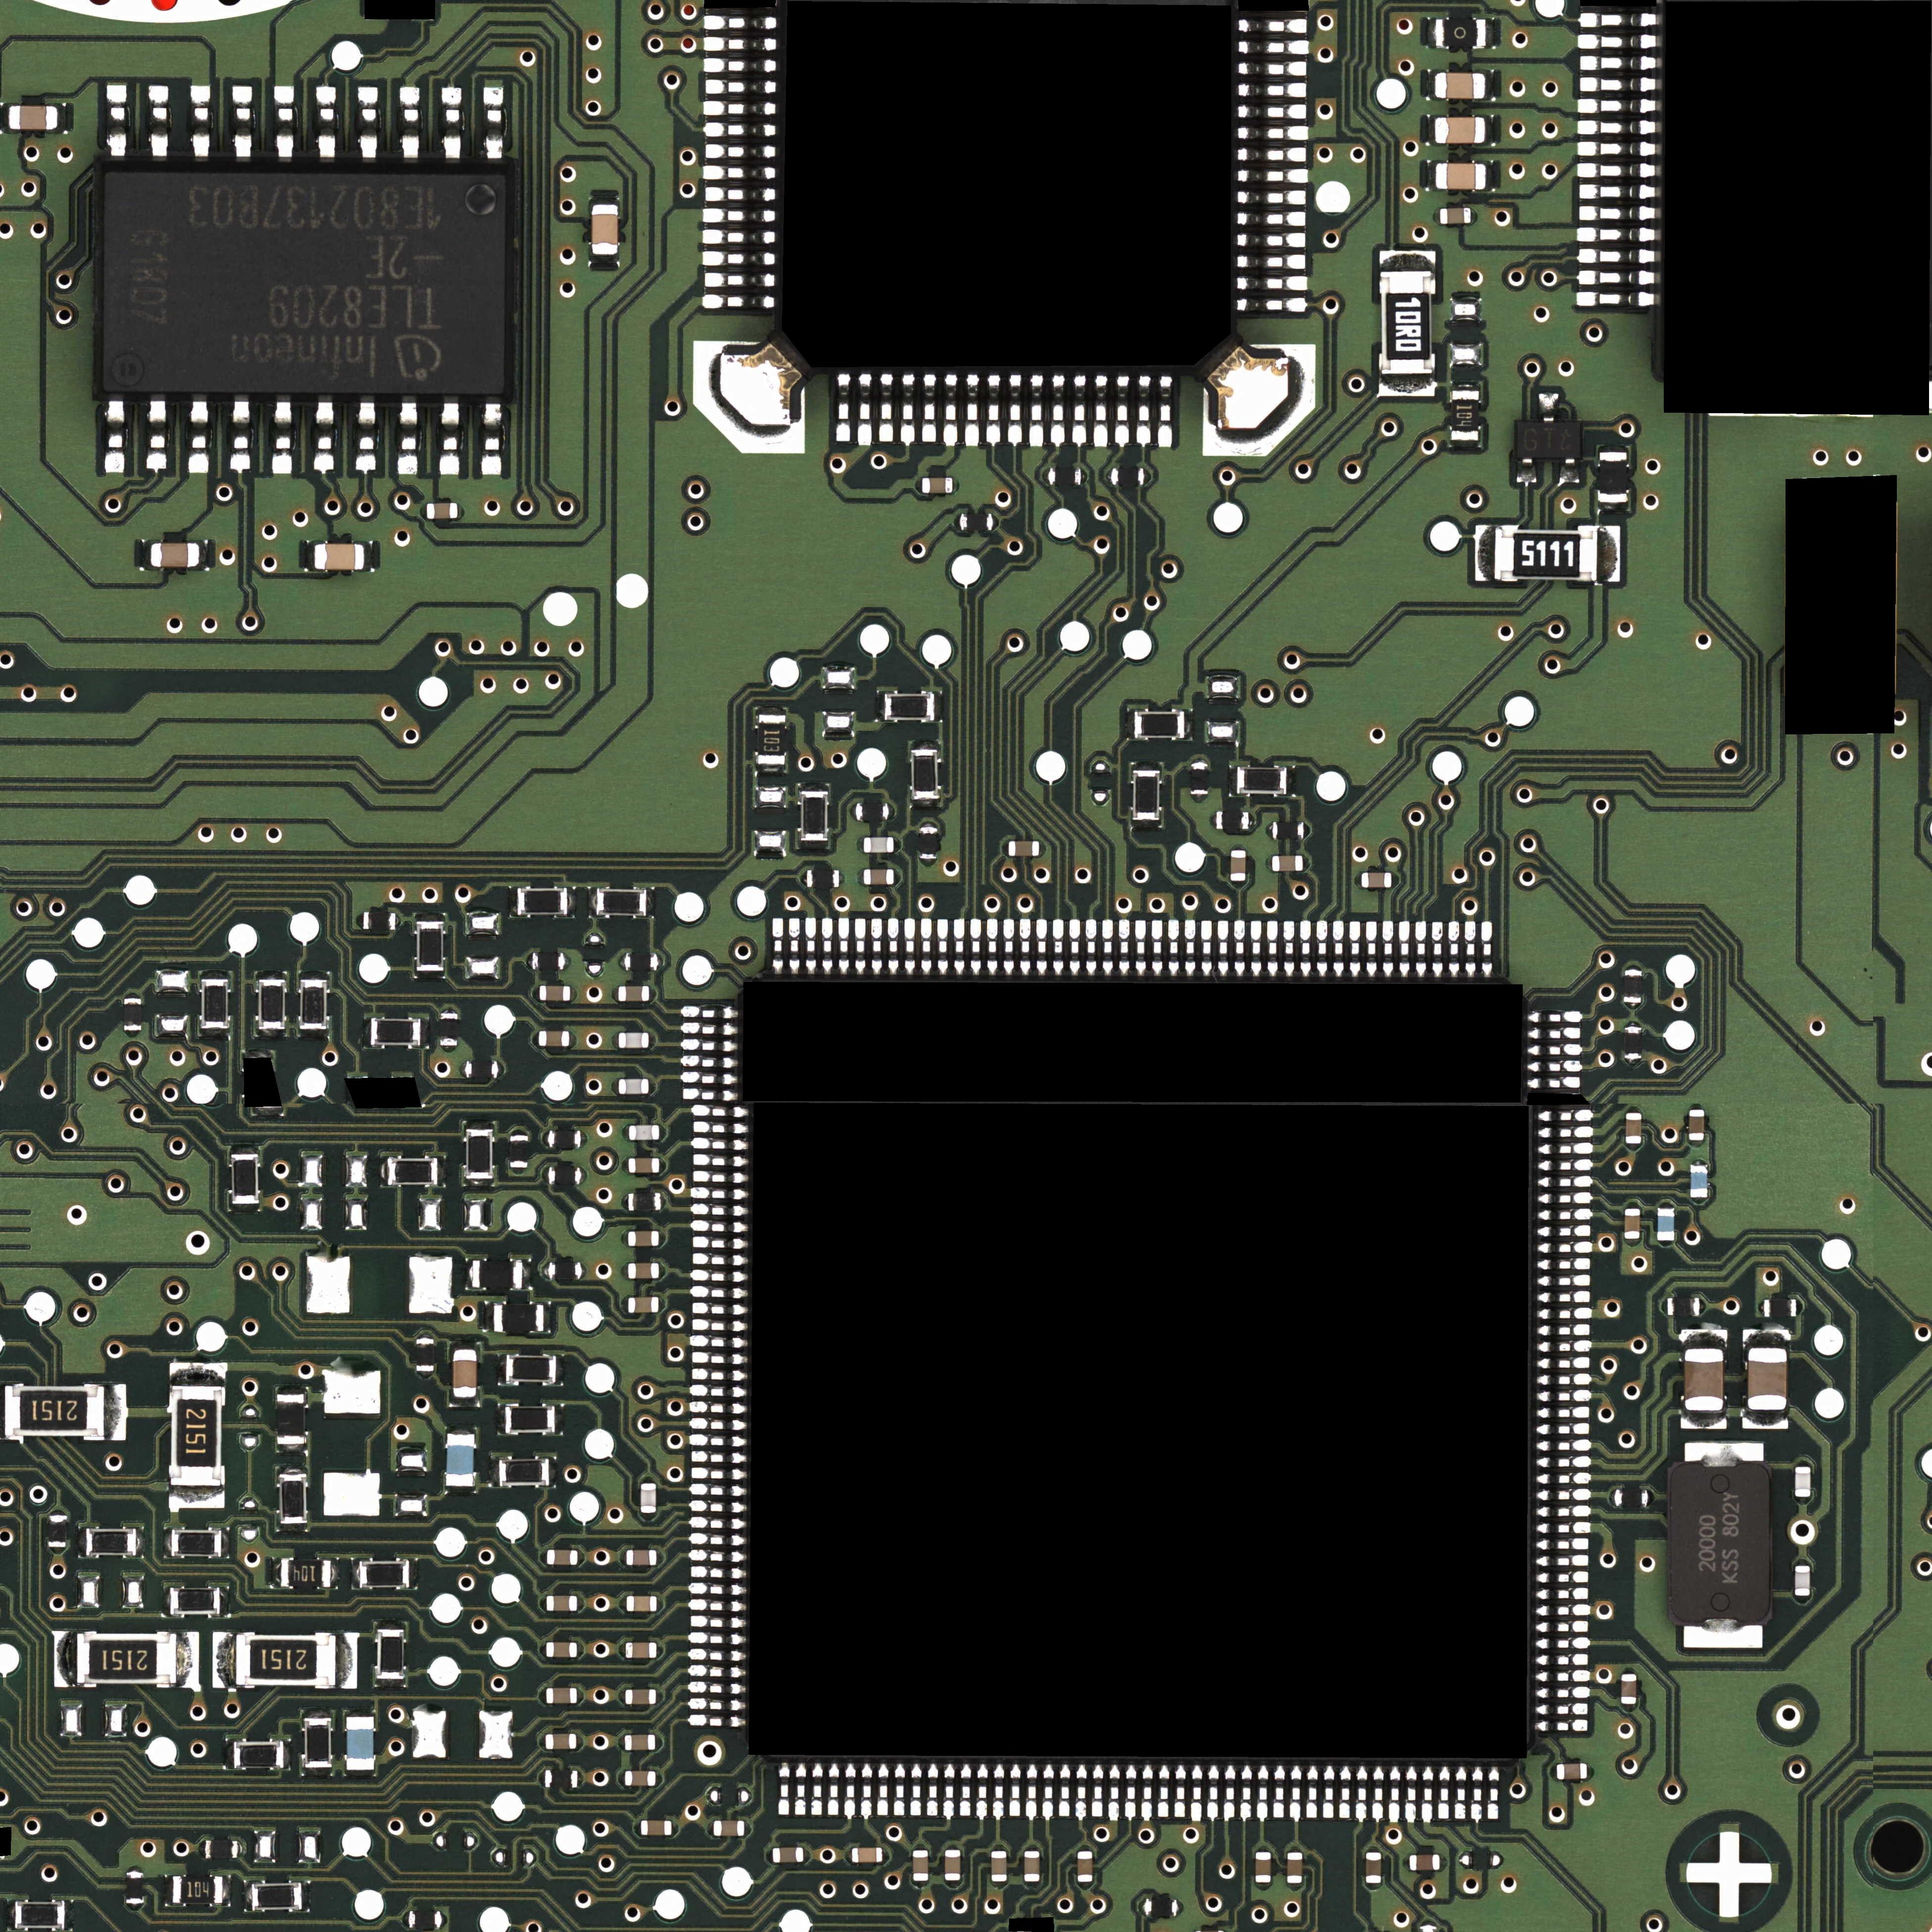Package: (106, 172, 506, 398), (1668, 1463, 1771, 1624), (1495, 527, 1598, 580), (1380, 272, 1433, 373), (5, 1385, 103, 1440), (172, 1387, 223, 1484), (78, 1633, 175, 1684), (237, 1635, 334, 1686), (1516, 421, 1582, 458), (1684, 1348, 1723, 1410), (1748, 1348, 1787, 1410), (1598, 451, 1628, 502), (446, 1433, 474, 1486), (280, 1559, 331, 1587), (172, 1875, 223, 1904), (1435, 19, 1486, 48), (347, 1716, 373, 1769), (757, 715, 786, 764), (494, 1304, 543, 1332), (276, 1394, 304, 1444), (472, 1260, 522, 1288), (1435, 117, 1486, 143), (1451, 391, 1479, 439), (517, 888, 566, 915), (315, 543, 364, 570), (885, 694, 934, 720), (359, 1560, 409, 1587), (465, 1129, 492, 1178), (258, 978, 285, 1028), (202, 978, 228, 1028), (280, 1474, 306, 1523), (499, 1460, 548, 1486), (506, 1407, 556, 1433), (304, 1718, 331, 1767), (506, 1355, 556, 1382), (232, 1154, 258, 1203), (1134, 711, 1184, 738), (1437, 163, 1486, 189), (1435, 73, 1484, 99), (593, 203, 617, 255), (418, 922, 444, 970), (911, 750, 938, 798), (150, 543, 200, 568), (596, 890, 646, 915), (801, 791, 826, 840), (234, 1743, 283, 1767), (170, 1589, 219, 1614), (172, 1530, 221, 1555), (379, 1629, 403, 1679), (372, 1019, 421, 1044), (87, 1529, 136, 1553), (387, 1159, 437, 1184), (1237, 768, 1286, 793), (1134, 770, 1159, 819), (301, 980, 326, 1028), (253, 1884, 301, 1909), (16, 1902, 64, 1927), (9, 106, 57, 129), (453, 1350, 476, 1398), (510, 1134, 529, 1168), (416, 1338, 435, 1371), (1622, 970, 1642, 1003), (1667, 1297, 1700, 1316), (918, 826, 938, 858), (807, 869, 839, 888), (959, 513, 993, 531), (625, 954, 658, 971), (1111, 467, 1145, 485), (1690, 1164, 1707, 1198), (1615, 1490, 1649, 1507), (1217, 810, 1247, 830), (363, 911, 395, 929), (533, 952, 564, 970), (856, 803, 888, 821), (48, 1514, 65, 1546), (548, 1261, 580, 1279), (628, 1192, 660, 1210), (548, 1166, 580, 1184), (409, 1911, 441, 1928), (545, 1769, 577, 1787), (548, 1131, 580, 1148), (124, 998, 142, 1030), (126, 1872, 143, 1904), (441, 1014, 458, 1046), (205, 1840, 237, 1858), (1191, 763, 1208, 794), (1049, 467, 1081, 485), (1272, 821, 1304, 839), (1624, 1026, 1642, 1058), (1145, 1898, 1177, 1916), (1764, 1299, 1796, 1316), (1440, 207, 1470, 225), (1272, 855, 1302, 872), (922, 478, 954, 494), (426, 502, 458, 518), (851, 1847, 883, 1863), (628, 1157, 660, 1173), (625, 1690, 656, 1706), (617, 985, 649, 1001), (625, 1642, 656, 1658), (545, 1734, 577, 1750), (547, 1550, 579, 1566), (713, 1821, 745, 1836), (465, 1062, 497, 1077), (1658, 1208, 1674, 1240), (1077, 1851, 1093, 1882), (540, 985, 570, 1001), (863, 869, 893, 885), (863, 837, 893, 853), (773, 1847, 803, 1863), (628, 1263, 658, 1279), (913, 1851, 929, 1881), (625, 1771, 655, 1787), (628, 1297, 658, 1313), (640, 1483, 656, 1513), (630, 1125, 660, 1141), (619, 1031, 649, 1047), (626, 1596, 656, 1612), (626, 1550, 656, 1566), (547, 1596, 577, 1612), (547, 1642, 577, 1658), (547, 1688, 577, 1704), (625, 1734, 655, 1750), (1230, 851, 1246, 881), (1008, 840, 1039, 856), (1362, 872, 1392, 888), (945, 1851, 961, 1881), (1557, 1764, 1587, 1780), (1794, 1566, 1810, 1596), (1626, 1113, 1642, 1143), (1024, 1851, 1040, 1881), (1621, 1674, 1637, 1704), (991, 1851, 1007, 1881), (1624, 1208, 1640, 1238), (1794, 1467, 1810, 1497), (1366, 1852, 1382, 1882), (1286, 1852, 1302, 1882), (1688, 1109, 1704, 1139), (1410, 1854, 1440, 1870), (538, 1031, 570, 1046), (628, 1231, 658, 1246), (619, 1079, 649, 1093), (640, 1821, 671, 1835), (1256, 1852, 1270, 1882)
Solder: (694, 340, 805, 453), (1205, 347, 1318, 455), (1684, 1624, 1762, 1647), (357, 85, 379, 161), (439, 400, 460, 476), (315, 85, 336, 161), (441, 85, 462, 161), (274, 85, 295, 161), (481, 400, 502, 476), (232, 85, 253, 159), (104, 400, 126, 474), (106, 83, 127, 157), (398, 85, 419, 159), (483, 85, 504, 159), (1684, 1442, 1764, 1461), (356, 400, 377, 472), (189, 400, 209, 474), (191, 85, 211, 159), (149, 85, 168, 159), (398, 400, 418, 474), (230, 400, 249, 472), (272, 402, 292, 474), (315, 402, 334, 472), (147, 400, 166, 471), (212, 1631, 235, 1690), (170, 1362, 226, 1385), (168, 1486, 225, 1509), (53, 1631, 76, 1688), (1578, 226, 1658, 242), (177, 1631, 198, 1690), (106, 1382, 127, 1440), (336, 1633, 357, 1690), (1378, 375, 1435, 396), (1378, 251, 1437, 271), (1576, 292, 1656, 306), (1599, 525, 1619, 582), (1580, 12, 1658, 27), (1580, 78, 1658, 92), (1578, 99, 1656, 113), (1578, 120, 1656, 134), (1578, 142, 1656, 156), (1578, 163, 1656, 177), (1580, 205, 1658, 219), (1578, 249, 1656, 264), (1578, 271, 1656, 285), (1238, 18, 1307, 34), (1237, 147, 1306, 163), (1237, 104, 1306, 120), (1580, 34, 1656, 48), (1582, 55, 1658, 69), (1580, 163, 1656, 177), (1580, 186, 1656, 200), (943, 373, 957, 446), (858, 372, 872, 444), (704, 16, 777, 30), (704, 35, 777, 50), (704, 58, 777, 73), (704, 80, 777, 94), (704, 166, 777, 180), (704, 101, 777, 115), (702, 122, 775, 136), (704, 145, 777, 159), (702, 209, 775, 223), (702, 230, 775, 244), (702, 251, 775, 265), (702, 272, 775, 287), (702, 295, 775, 310), (1476, 524, 1493, 580), (1237, 276, 1307, 290), (1237, 297, 1307, 311), (1136, 377, 1150, 448), (1115, 375, 1129, 446), (1093, 375, 1108, 446), (1072, 375, 1086, 446), (1051, 375, 1065, 446), (1030, 375, 1044, 446), (1008, 375, 1023, 446), (966, 375, 980, 446), (987, 375, 1001, 446), (1238, 41, 1307, 55), (1238, 62, 1307, 76), (1238, 83, 1307, 97), (1238, 126, 1307, 140), (1238, 170, 1307, 184), (1238, 234, 1307, 248), (1237, 212, 1306, 226), (1237, 255, 1306, 269), (879, 373, 893, 442), (922, 373, 936, 442), (837, 373, 851, 441), (901, 373, 913, 446), (704, 188, 777, 200), (1681, 1410, 1727, 1430), (1743, 1410, 1789, 1430), (1237, 191, 1306, 203), (1159, 377, 1171, 446), (1743, 1329, 1790, 1346), (1681, 1330, 1727, 1348), (692, 1368, 747, 1382), (690, 1582, 745, 1596), (690, 1336, 748, 1348), (688, 1649, 747, 1661), (688, 1631, 747, 1644), (688, 1615, 747, 1628), (1207, 1764, 1219, 1822), (993, 1762, 1005, 1821), (943, 1762, 955, 1821), (681, 1007, 738, 1019), (681, 1039, 738, 1051), (692, 1122, 748, 1134), (694, 1154, 750, 1166), (692, 1187, 748, 1200), (692, 1253, 748, 1265), (692, 1270, 748, 1283), (692, 1237, 748, 1249), (692, 1318, 748, 1330), (692, 1352, 748, 1364), (690, 1401, 747, 1414), (690, 1451, 747, 1463), (690, 1417, 747, 1430), (690, 1566, 747, 1578), (688, 1550, 745, 1562), (690, 1532, 747, 1545), (690, 1516, 747, 1529), (690, 1500, 747, 1513), (688, 1665, 745, 1677), (688, 1714, 745, 1727), (1431, 922, 1444, 978), (1355, 1766, 1368, 1822), (1141, 1764, 1154, 1821), (1042, 1764, 1054, 1821), (683, 1023, 738, 1035), (683, 1072, 738, 1085), (683, 1088, 738, 1100), (694, 1138, 748, 1150), (692, 1302, 747, 1315), (692, 1467, 747, 1479), (690, 1599, 745, 1612), (690, 1683, 745, 1695), (690, 1698, 745, 1711), (1537, 1109, 1592, 1122), (1539, 1159, 1594, 1171), (1536, 1571, 1591, 1583), (1537, 1274, 1591, 1286), (1537, 1323, 1591, 1336), (1536, 1670, 1589, 1683), (1537, 1422, 1589, 1435), (1290, 1764, 1300, 1822), (1258, 1764, 1269, 1822), (1240, 1764, 1251, 1822), (1224, 1764, 1235, 1822), (1191, 1764, 1201, 1822), (1076, 1762, 1086, 1821), (1026, 1762, 1037, 1821), (977, 1762, 987, 1821), (773, 918, 784, 975), (692, 1106, 748, 1116), (692, 1171, 748, 1182), (692, 1205, 748, 1215), (692, 1221, 748, 1231), (692, 1286, 748, 1297), (690, 1385, 747, 1396), (690, 1435, 747, 1445), (690, 1484, 747, 1495), (789, 918, 800, 975), (839, 918, 849, 975), (855, 918, 865, 975), (888, 918, 899, 975), (1019, 918, 1030, 975), (987, 918, 998, 975), (954, 918, 964, 975), (938, 918, 948, 975), (904, 918, 915, 975), (1069, 920, 1079, 977), (1086, 920, 1097, 977), (1102, 920, 1113, 977), (1120, 920, 1131, 977), (1136, 920, 1146, 977), (1152, 920, 1162, 977), (1168, 920, 1178, 977), (1185, 920, 1196, 977), (1201, 920, 1212, 977), (1366, 920, 1376, 977), (1300, 920, 1311, 977), (1316, 920, 1327, 977), (1251, 920, 1261, 977), (1267, 920, 1277, 977), (1284, 920, 1295, 977), (1217, 920, 1228, 977), (1399, 922, 1410, 978), (1415, 922, 1426, 978), (1449, 922, 1460, 978), (1465, 922, 1476, 978), (1422, 1766, 1433, 1822), (1405, 1766, 1415, 1822), (1389, 1766, 1399, 1822), (1373, 1766, 1384, 1822), (1125, 1764, 1136, 1821), (1109, 1764, 1120, 1821), (862, 1762, 872, 1819), (844, 1762, 855, 1819), (683, 1056, 738, 1067), (805, 918, 816, 973), (821, 918, 832, 973), (1003, 920, 1014, 975), (1037, 920, 1047, 975), (1053, 920, 1063, 975), (1350, 922, 1361, 977), (1539, 1127, 1594, 1138), (1537, 1143, 1592, 1154), (1537, 1177, 1592, 1187), (1539, 1192, 1594, 1203), (1539, 1208, 1594, 1219), (1537, 1242, 1592, 1253), (1536, 1506, 1591, 1516), (1536, 1490, 1591, 1500), (1536, 1605, 1591, 1615), (1534, 1621, 1589, 1631), (1534, 1654, 1589, 1665), (1534, 1720, 1589, 1730), (961, 1762, 971, 1817), (927, 1762, 938, 1817), (828, 1762, 839, 1817), (1529, 1012, 1582, 1023), (1529, 1028, 1582, 1039), (1529, 1044, 1582, 1054), (1529, 1060, 1582, 1070), (1527, 1077, 1580, 1088), (1537, 1226, 1591, 1237), (1537, 1292, 1591, 1302), (1537, 1307, 1591, 1318), (1537, 1341, 1591, 1352), (1537, 1373, 1591, 1384), (1537, 1391, 1591, 1401), (1537, 1407, 1591, 1417), (1537, 1456, 1591, 1467), (1537, 1472, 1591, 1483), (1537, 1440, 1591, 1451), (1537, 1523, 1591, 1534), (1536, 1539, 1589, 1550), (1536, 1555, 1589, 1566), (1536, 1688, 1589, 1698), (1534, 1704, 1587, 1714), (1536, 1638, 1589, 1649), (1536, 1589, 1589, 1599), (1488, 1766, 1499, 1819), (1472, 1766, 1483, 1819), (1438, 1766, 1449, 1819), (1339, 1766, 1350, 1819), (1323, 1766, 1334, 1819), (1307, 1766, 1318, 1819), (1274, 1766, 1284, 1819), (1175, 1764, 1185, 1817), (1159, 1764, 1169, 1817), (1092, 1764, 1102, 1817), (1060, 1764, 1070, 1817), (1010, 1764, 1021, 1817), (911, 1762, 922, 1815), (893, 1762, 904, 1815), (878, 1762, 888, 1815), (812, 1762, 823, 1815), (794, 1762, 805, 1815), (778, 1762, 789, 1815), (1559, 458, 1580, 483), (1516, 458, 1537, 483), (1539, 393, 1557, 421), (872, 918, 881, 975), (971, 918, 980, 975), (922, 918, 931, 975), (1334, 920, 1343, 977), (1235, 920, 1244, 977), (1384, 920, 1392, 977), (1483, 922, 1491, 978), (1537, 1260, 1591, 1269), (1537, 1359, 1591, 1368), (1456, 1766, 1465, 1819), (755, 764, 787, 775), (1424, 16, 1435, 48), (1184, 708, 1194, 740), (1598, 502, 1629, 513), (449, 1398, 479, 1408), (488, 1456, 499, 1486), (1424, 159, 1435, 189), (1131, 819, 1161, 830), (1486, 115, 1497, 145), (1486, 161, 1497, 191), (1486, 18, 1497, 48), (446, 1424, 478, 1433), (228, 1203, 260, 1212), (253, 1108, 285, 1116), (276, 1444, 308, 1453), (437, 1155, 446, 1187), (497, 1353, 506, 1385), (221, 1585, 230, 1617), (350, 1557, 359, 1589), (375, 1679, 407, 1688), (78, 1525, 87, 1557), (161, 1585, 170, 1617), (331, 1557, 340, 1589), (409, 1559, 418, 1591), (221, 1527, 230, 1559), (64, 1898, 73, 1930), (276, 1523, 308, 1532), (301, 1767, 333, 1776), (7, 1898, 16, 1930), (798, 840, 830, 849), (934, 690, 943, 722), (798, 782, 830, 791), (556, 1353, 564, 1385), (1286, 764, 1295, 796), (1228, 764, 1237, 796), (1131, 761, 1162, 770), (57, 103, 65, 133), (0, 103, 9, 133), (416, 913, 446, 922), (200, 970, 230, 978), (414, 971, 444, 980), (299, 971, 329, 980), (257, 970, 287, 978), (421, 1017, 430, 1047), (230, 1145, 260, 1154), (257, 1030, 287, 1039), (363, 1017, 372, 1047), (200, 1028, 230, 1037), (165, 1875, 173, 1905), (283, 1739, 292, 1769), (303, 1709, 333, 1718), (225, 1739, 234, 1769), (345, 1769, 375, 1778), (876, 690, 885, 720), (587, 886, 596, 916), (485, 1302, 494, 1332), (522, 1260, 531, 1290), (548, 1458, 557, 1488), (1426, 115, 1435, 145), (1426, 69, 1435, 99), (1125, 709, 1134, 740), (1486, 69, 1495, 99), (465, 1178, 494, 1187), (465, 1120, 494, 1129), (163, 1529, 172, 1557), (646, 888, 655, 916), (911, 740, 939, 748), (1449, 441, 1483, 448), (306, 540, 313, 571), (297, 1030, 329, 1037), (276, 1387, 308, 1394), (449, 1341, 481, 1348), (497, 1403, 504, 1435), (375, 1621, 407, 1628), (272, 1557, 280, 1589), (444, 1486, 476, 1493), (755, 706, 787, 713), (364, 541, 372, 571), (200, 540, 207, 570), (242, 1049, 272, 1056), (465, 1258, 472, 1288), (380, 1155, 387, 1185), (303, 1881, 310, 1911), (136, 1527, 143, 1557), (345, 1709, 375, 1716), (223, 1875, 230, 1905), (278, 1465, 308, 1472), (589, 196, 619, 203), (589, 255, 619, 262), (568, 886, 575, 916), (510, 886, 517, 916), (543, 1302, 550, 1332), (556, 1405, 563, 1435), (1451, 382, 1481, 389), (244, 1881, 251, 1909), (911, 800, 939, 807), (656, 1594, 665, 1614), (656, 1548, 665, 1568), (639, 1513, 658, 1522), (1622, 1238, 1642, 1247), (1587, 1762, 1596, 1782), (143, 540, 149, 570), (196, 1840, 205, 1858), (655, 1769, 663, 1787), (655, 1734, 663, 1752), (1191, 794, 1208, 803), (1286, 1882, 1304, 1891), (1254, 1882, 1272, 1891), (1796, 1299, 1805, 1316), (1660, 1297, 1668, 1315), (1794, 1497, 1812, 1506), (1794, 1596, 1812, 1605), (1440, 1854, 1449, 1872), (1599, 446, 1628, 451), (658, 1230, 667, 1246), (658, 1297, 667, 1313), (570, 1031, 579, 1047), (538, 1642, 547, 1658), (538, 1688, 547, 1704), (991, 1881, 1007, 1890), (1401, 1854, 1410, 1870), (1024, 1881, 1040, 1890), (1431, 207, 1440, 223), (918, 858, 938, 865), (656, 1640, 663, 1660), (619, 1594, 626, 1614), (1656, 1240, 1675, 1247), (1647, 1488, 1654, 1507), (356, 911, 363, 929), (419, 502, 426, 520), (458, 502, 465, 520), (124, 1030, 142, 1037), (126, 1904, 143, 1911), (237, 1840, 244, 1858), (888, 803, 895, 821), (920, 821, 938, 828), (856, 869, 863, 886), (893, 869, 901, 886), (525, 952, 533, 970), (564, 952, 571, 970), (839, 870, 846, 888), (649, 1031, 656, 1049), (660, 1157, 667, 1175), (660, 1123, 667, 1141), (541, 1261, 548, 1279), (621, 1295, 628, 1313), (541, 1166, 548, 1184), (510, 1168, 527, 1175), (540, 1548, 547, 1566), (656, 1688, 663, 1706), (577, 1594, 584, 1612), (538, 1769, 545, 1787), (577, 1642, 584, 1660), (617, 1769, 625, 1787), (577, 1688, 584, 1706), (617, 1688, 625, 1706), (540, 1594, 547, 1612), (633, 1819, 640, 1836), (945, 1881, 962, 1888), (911, 1881, 929, 1888), (577, 1734, 584, 1752), (1081, 467, 1088, 485), (954, 476, 961, 494), (1230, 881, 1247, 888), (1249, 812, 1256, 830), (993, 513, 1000, 531), (1254, 1845, 1272, 1852), (1077, 1882, 1095, 1890), (1138, 1898, 1145, 1916), (1698, 1297, 1706, 1315), (1624, 1058, 1642, 1065), (1624, 1201, 1642, 1208), (1621, 1704, 1638, 1711), (1550, 1764, 1557, 1782), (1794, 1460, 1812, 1467), (395, 913, 402, 929), (441, 1007, 456, 1014), (441, 1046, 456, 1053), (418, 1371, 433, 1378), (497, 1062, 504, 1077), (50, 1546, 65, 1553), (402, 1911, 409, 1927), (127, 1865, 143, 1872), (893, 837, 901, 853), (856, 837, 863, 853), (617, 954, 625, 970), (915, 478, 922, 494), (660, 1263, 667, 1279), (649, 985, 656, 1001), (610, 1031, 617, 1047), (570, 985, 577, 1001), (610, 1077, 617, 1093), (610, 985, 617, 1001), (649, 1077, 656, 1093), (541, 1131, 548, 1146), (619, 1550, 626, 1566), (579, 1550, 586, 1566), (803, 1847, 810, 1863), (844, 1847, 851, 1863), (913, 1844, 929, 1851), (883, 1847, 890, 1863), (706, 1821, 713, 1836), (672, 1821, 679, 1836), (766, 1847, 773, 1863), (745, 1821, 752, 1836), (640, 1476, 656, 1483), (945, 1844, 961, 1851), (617, 1734, 625, 1750), (1304, 823, 1311, 839), (1001, 840, 1008, 856), (1039, 840, 1046, 856), (1392, 872, 1399, 888), (1353, 872, 1361, 888), (1265, 856, 1272, 872), (1265, 823, 1272, 839), (1286, 1845, 1302, 1852), (1366, 1845, 1382, 1852), (1024, 1844, 1040, 1851), (991, 1844, 1007, 1851), (1366, 1882, 1382, 1890), (1077, 1844, 1093, 1851), (1177, 1900, 1184, 1916), (1626, 1106, 1642, 1113), (1794, 1559, 1810, 1566), (1621, 1667, 1637, 1674), (662, 1192, 667, 1212), (1690, 1198, 1709, 1203), (1686, 1141, 1706, 1146), (619, 1231, 626, 1246), (533, 985, 540, 1000), (1472, 209, 1479, 223), (851, 803, 856, 821), (510, 1129, 527, 1134), (621, 1192, 626, 1210), (582, 1131, 587, 1148), (619, 1642, 625, 1660), (1145, 467, 1150, 485), (1042, 467, 1047, 485), (1624, 964, 1642, 970), (1624, 1145, 1642, 1150), (1624, 1021, 1642, 1026), (1690, 1159, 1707, 1164), (1624, 1003, 1642, 1008), (1759, 1299, 1764, 1316), (1658, 1201, 1675, 1207), (460, 1062, 465, 1077), (418, 1334, 433, 1339), (50, 1509, 65, 1514), (442, 1913, 448, 1928), (658, 954, 663, 970), (801, 870, 807, 886), (623, 1125, 628, 1141), (623, 1157, 628, 1173), (621, 1263, 626, 1279), (582, 1168, 587, 1184), (579, 1771, 584, 1787), (540, 1734, 545, 1750), (1106, 469, 1111, 485), (1304, 855, 1309, 870), (1210, 812, 1215, 828), (954, 513, 959, 529), (1688, 1104, 1704, 1109), (1610, 1490, 1615, 1506), (126, 993, 140, 998), (533, 1031, 538, 1046), (582, 1263, 587, 1277), (1231, 844, 1246, 849), (1192, 757, 1207, 763), (474, 1833, 478, 1847)
